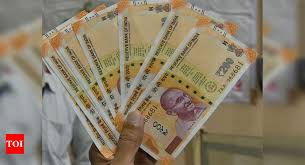twoHundred: (148, 40, 242, 151)
